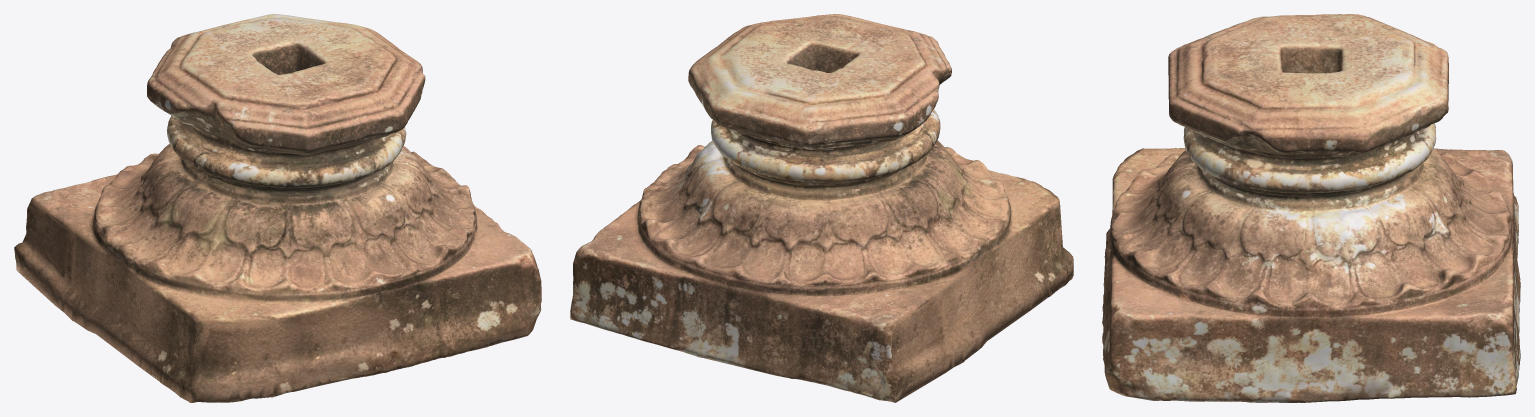
Rendered from 9_MysonSanctuaryB_Detru_final.glb.
The picture shows the model from 3 angles, left to right: view 1: azimuth 30°, elevation 25°; view 2: azimuth 150°, elevation 25°; view 3: azimuth 270°, elevation 25°; orthographic projection. The views are drawn at different scales.
Size of the model in its own units: 0.4854 by 0.3281 by 0.4786.
Materials: 1 (1 with a texture image).
